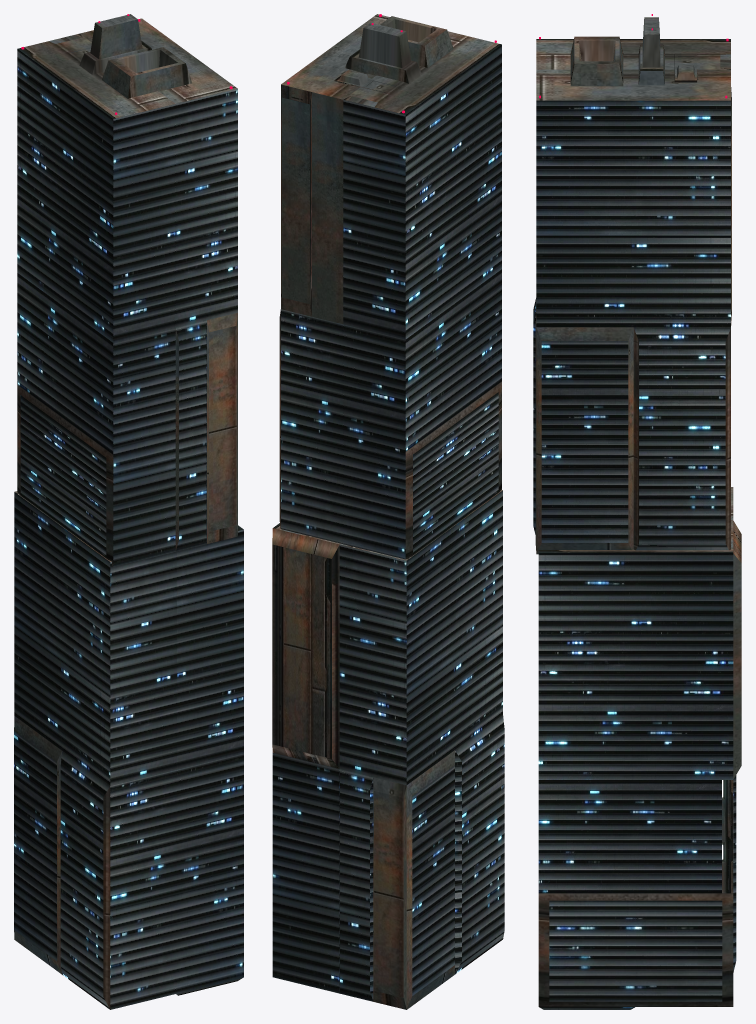
Rendered from s_03_07-new-building.glb.
3 views of the same model, side by side, from view 1: azimuth 30°, elevation 25°; view 2: azimuth 150°, elevation 25°; view 3: azimuth 270°, elevation 25° (orthographic).
Parts seen in each view (by area): view 1: s_03_07-new-building.001; view 2: s_03_07-new-building.001; view 3: s_03_07-new-building.001.
Part boxes in pixels (x1,y1,x2,y2): s_03_07-new-building.001: (14,14,243,1009); s_03_07-new-building.001: (272,14,504,1009); s_03_07-new-building.001: (533,14,741,1009).
Size of the model in its own units: 39.47 by 254 by 50.29.
2 materials, 1 textured.
